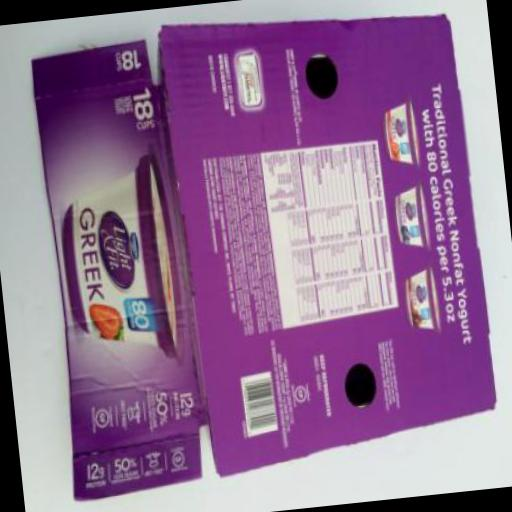cardboard: (28, 0, 505, 503)
